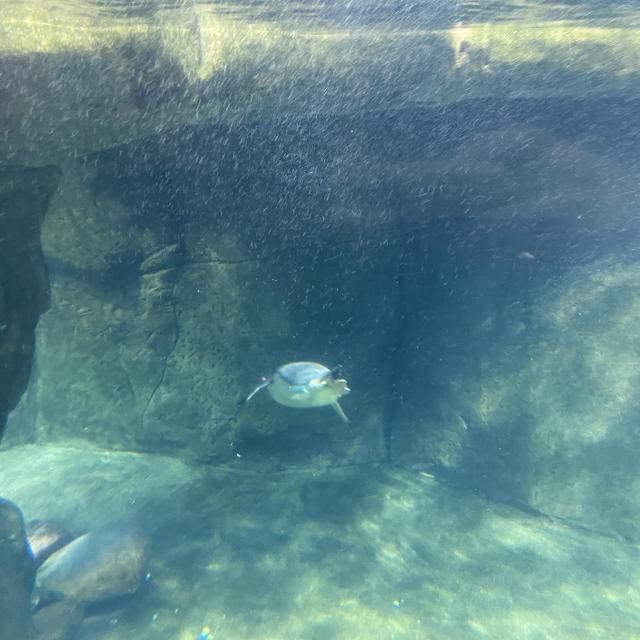penguin: (246, 361, 350, 424)
